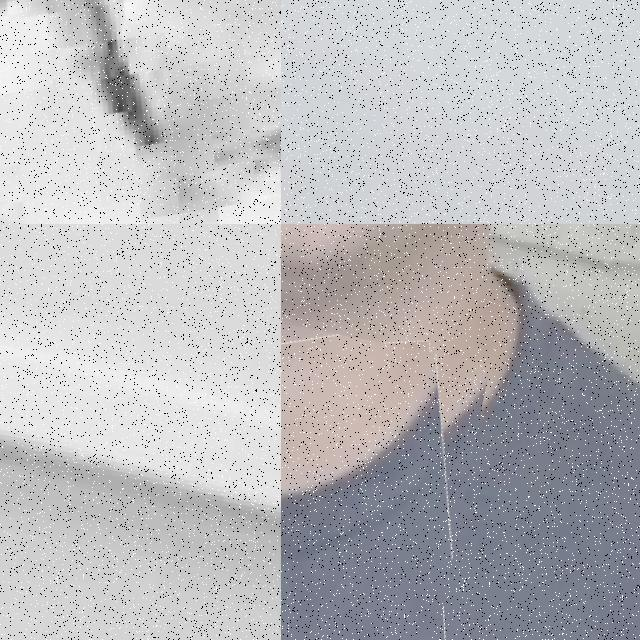0: (0, 0, 281, 224)
drone: (281, 315, 490, 640)
